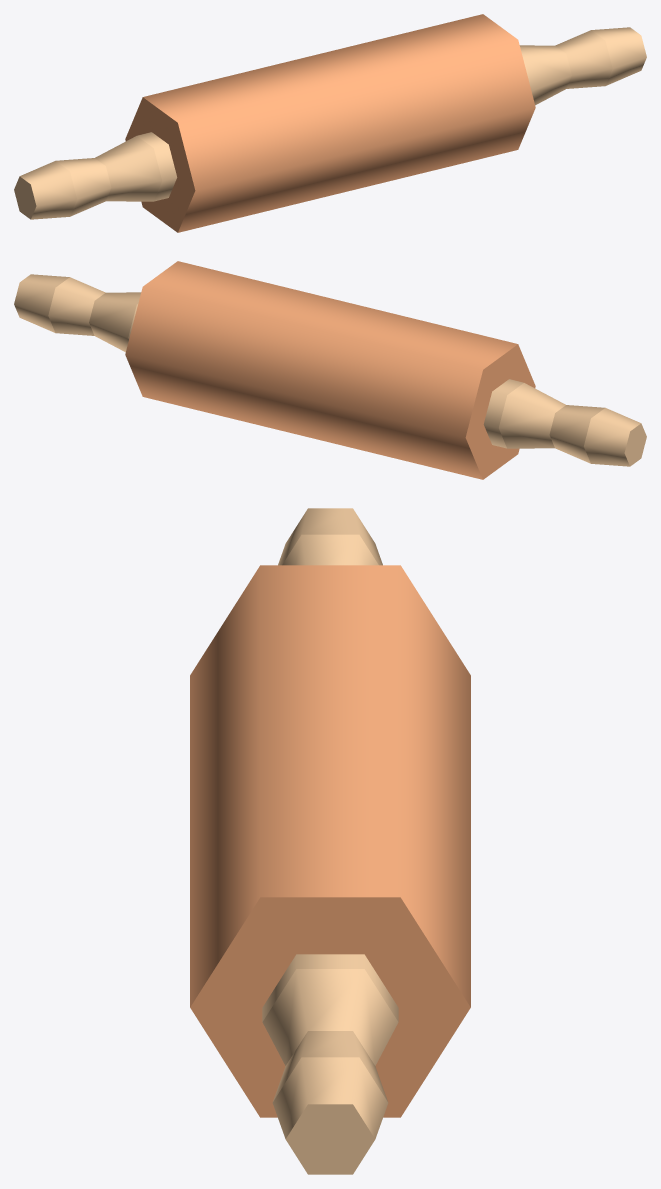
The model's file is Rolling Pin.glb.
The picture shows the model from 3 angles, top to bottom: view 1: azimuth 30°, elevation 25°; view 2: azimuth 150°, elevation 25°; view 3: azimuth 270°, elevation 25°; orthographic projection. The views are drawn at different scales.
Visible parts, largest first — view 1: Rolling Pin; view 2: Rolling Pin; view 3: Rolling Pin.
Part boxes in pixels (x1,y1,x2,y2): Rolling Pin: (14, 14, 646, 232); Rolling Pin: (14, 261, 646, 479); Rolling Pin: (190, 508, 470, 1174).
Size of the model in its own units: 0.8137 by 0.1403 by 0.162.
